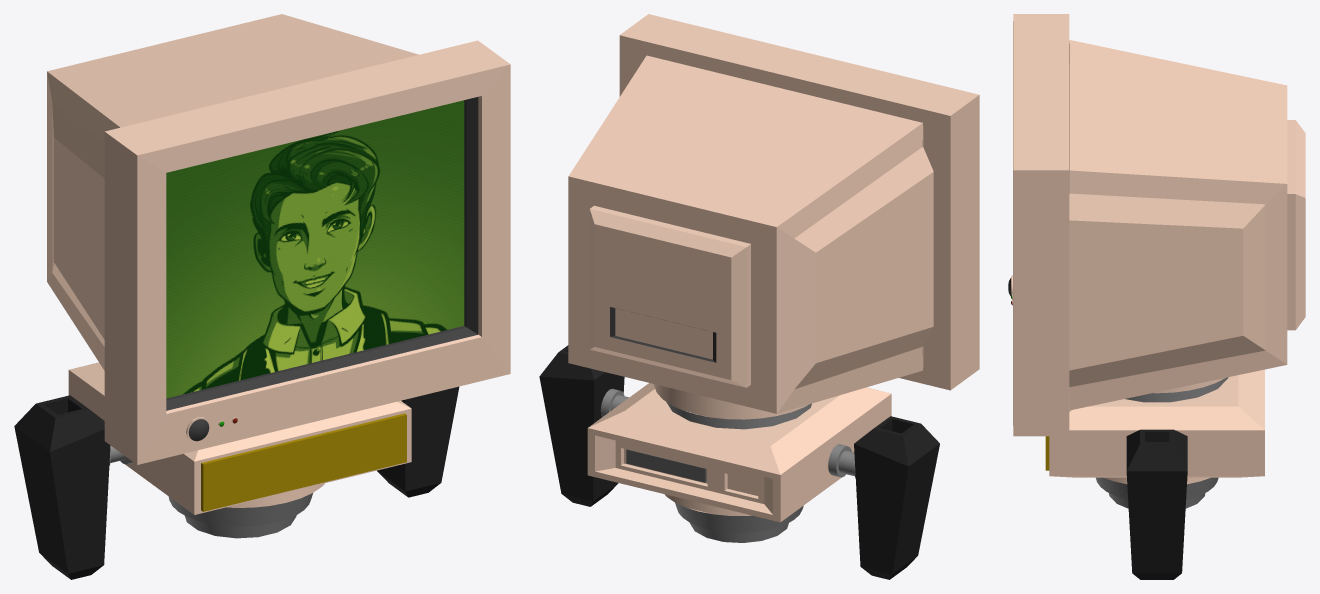
Rendered from Eden Bot RECEPTIONIST.fbx.
3 renders of one model, left to right at view 1: azimuth 30°, elevation 25°; view 2: azimuth 150°, elevation 25°; view 3: azimuth 270°, elevation 25°, orthographic. The views are drawn at different scales.
Parts seen in each view (by area): view 1: monitor front.002, monitor box.002, thrusters.002, label plate.002, monitor base.002; view 2: monitor box.002, monitor front.002, monitor base.002, thrusters.002, monitor neck.002; view 3: monitor box.002, monitor front.002, monitor base.002, thrusters.002, monitor neck.002.
Boxes of the visible parts, x1,y1,x2,y2 form: monitor front.002: [104, 40, 510, 464]; monitor box.002: [47, 14, 418, 370]; thrusters.002: [14, 386, 459, 579]; label plate.002: [201, 413, 406, 511]; monitor base.002: [68, 362, 411, 514]; monitor box.002: [568, 55, 933, 413]; monitor front.002: [619, 14, 979, 390]; monitor base.002: [587, 383, 891, 522]; thrusters.002: [539, 345, 939, 579]; monitor neck.002: [654, 384, 811, 429]; monitor box.002: [1069, 40, 1305, 410]; monitor front.002: [1013, 14, 1069, 436]; monitor base.002: [1049, 369, 1264, 477]; thrusters.002: [1096, 429, 1218, 579]; monitor neck.002: [1125, 377, 1228, 402].
Size of the model in its own units: 70.24 by 77.49 by 50.64.
5 materials, 5 textured.
